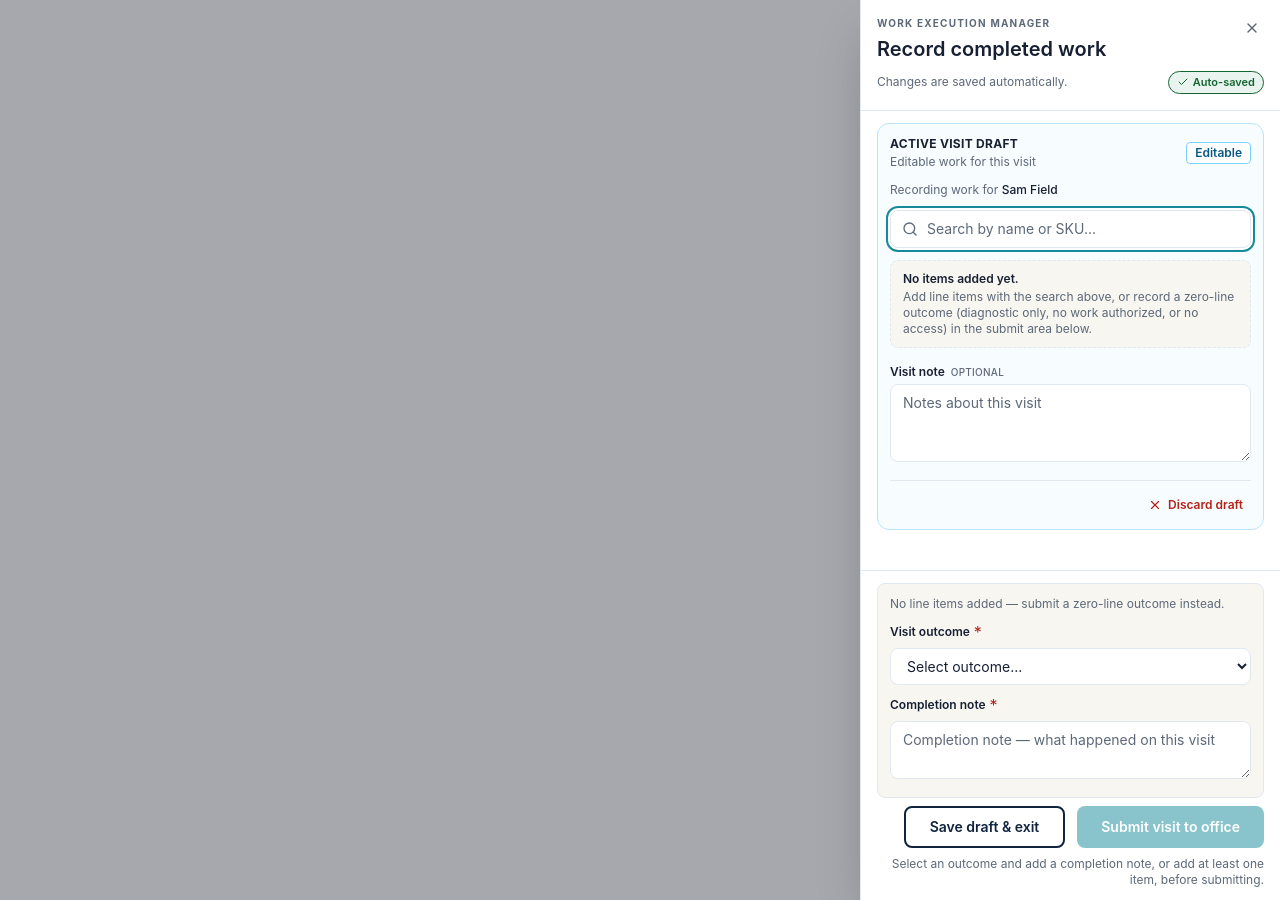
it: ActualWorkComposer › expands an assembly with optional items defaulted out and reports skipped components
Type "furnace" into the dropdown with placeholder "Search by name or SKU..." at point(1070, 228), box [890,210,1251,248]
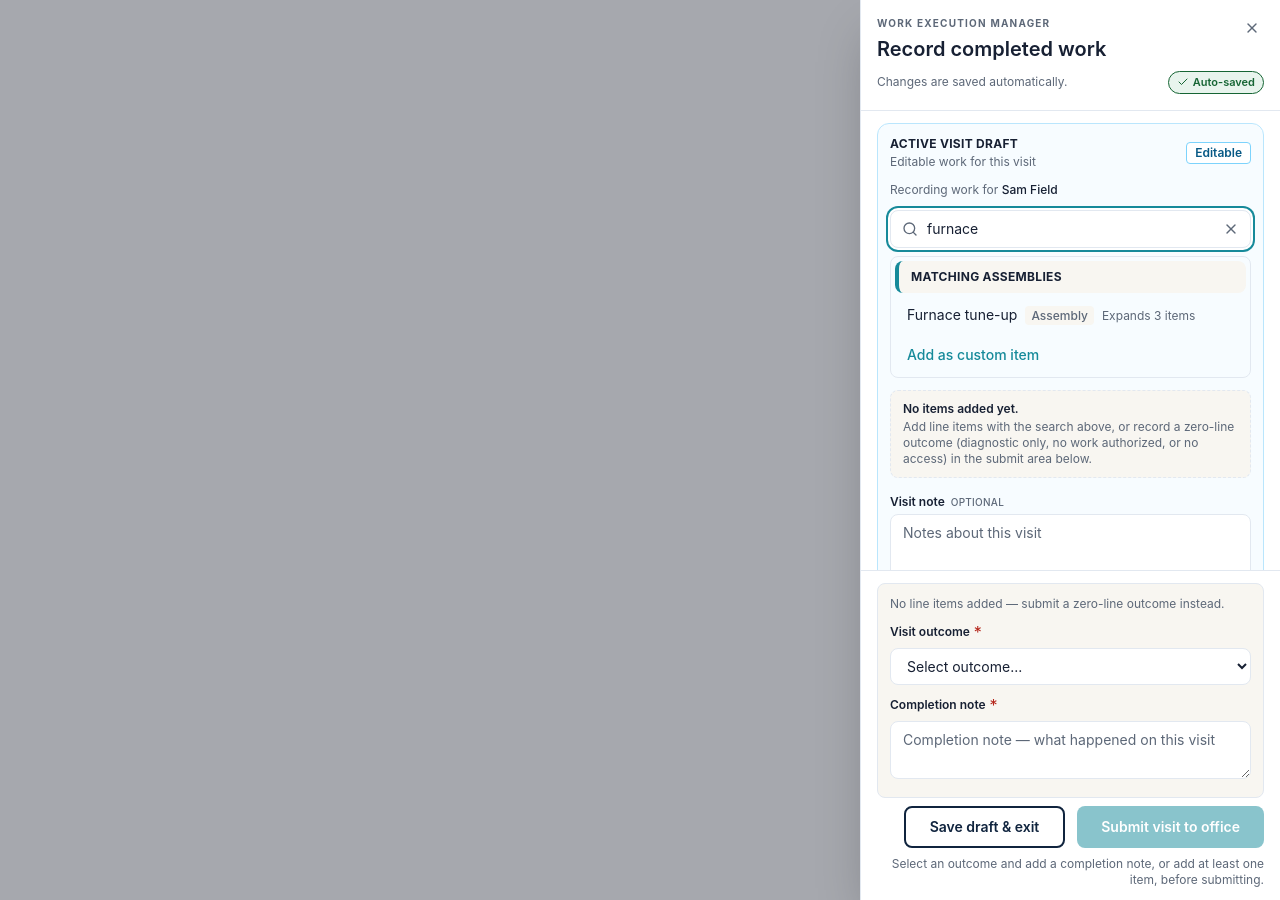
Click the option "Furnace tune-up" at point(1051, 315), box [907,306,1195,324]
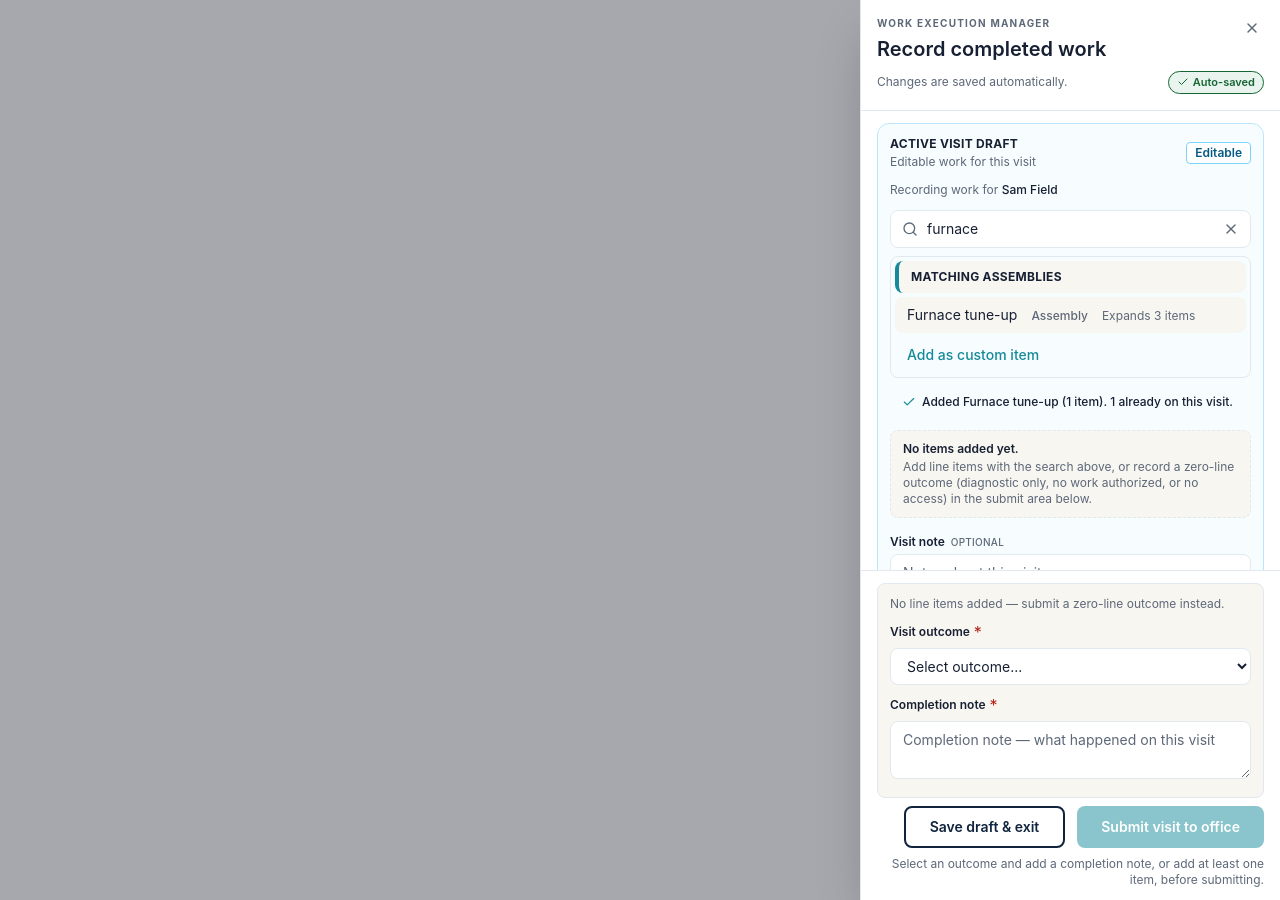
Expected: the message reads "Added Furnace tune-up (1 item). 1 already on this visit.", [922,394,1233,408]
